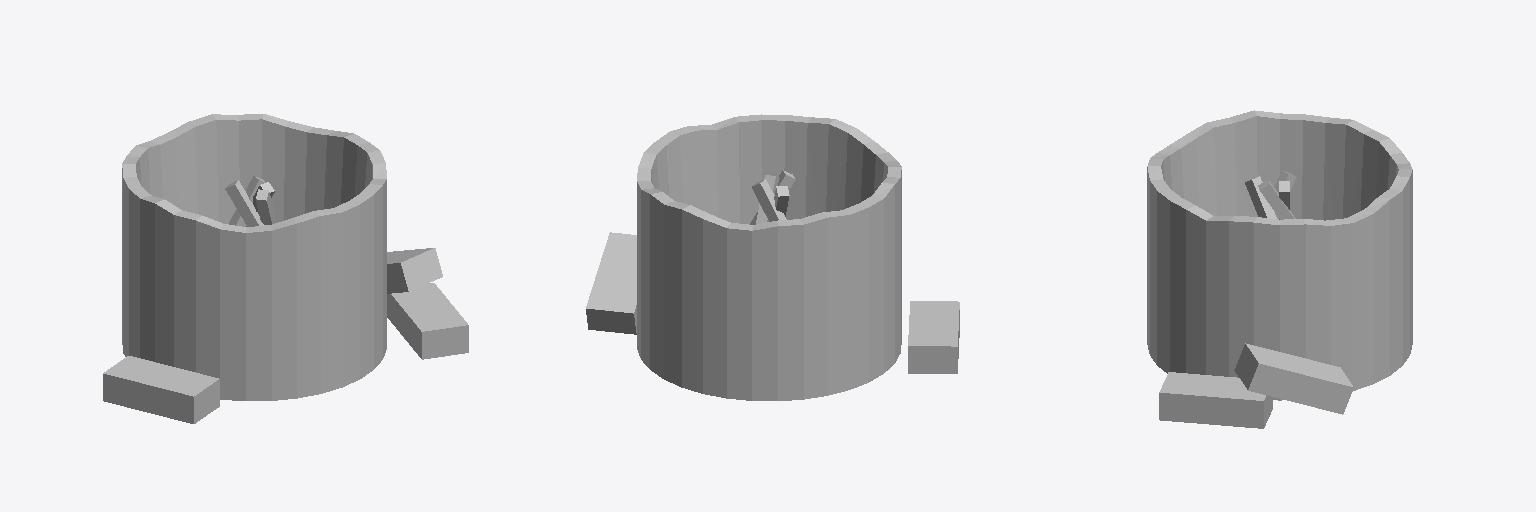
The model's file is fireplace.obj.
3 views of the same model, side by side, from view 1: azimuth 30°, elevation 25°; view 2: azimuth 150°, elevation 25°; view 3: azimuth 270°, elevation 25° (orthographic).
Parts seen in each view (by area): view 1: Barrel_Cylinder.001, Brick_Cube.002, Brick2_Cube.003, Brick3_Cube.004, Stick1_Cube.006; view 2: Barrel_Cylinder.001, Brick3_Cube.004, Brick_Cube.002, Stick_Cube.005; view 3: Barrel_Cylinder.001, Brick3_Cube.004, Brick2_Cube.003, Stick2_Cube.007, Stick3_Cube.008.
Boxes of the visible parts, x1,y1,x2,y2 form: Barrel_Cylinder.001: [122, 114, 386, 400]; Brick_Cube.002: [103, 356, 219, 423]; Brick2_Cube.003: [387, 283, 468, 359]; Brick3_Cube.004: [387, 248, 442, 293]; Stick1_Cube.006: [225, 180, 264, 226]; Barrel_Cylinder.001: [637, 114, 901, 400]; Brick3_Cube.004: [586, 232, 636, 334]; Brick_Cube.002: [908, 301, 959, 373]; Stick_Cube.005: [752, 179, 786, 221]; Barrel_Cylinder.001: [1147, 110, 1412, 400]; Brick3_Cube.004: [1234, 343, 1353, 414]; Brick2_Cube.003: [1159, 372, 1272, 428]; Stick2_Cube.007: [1245, 176, 1276, 218]; Stick3_Cube.008: [1258, 180, 1295, 219].
Size of the model in its own units: 2.96 by 1.49 by 1.99.